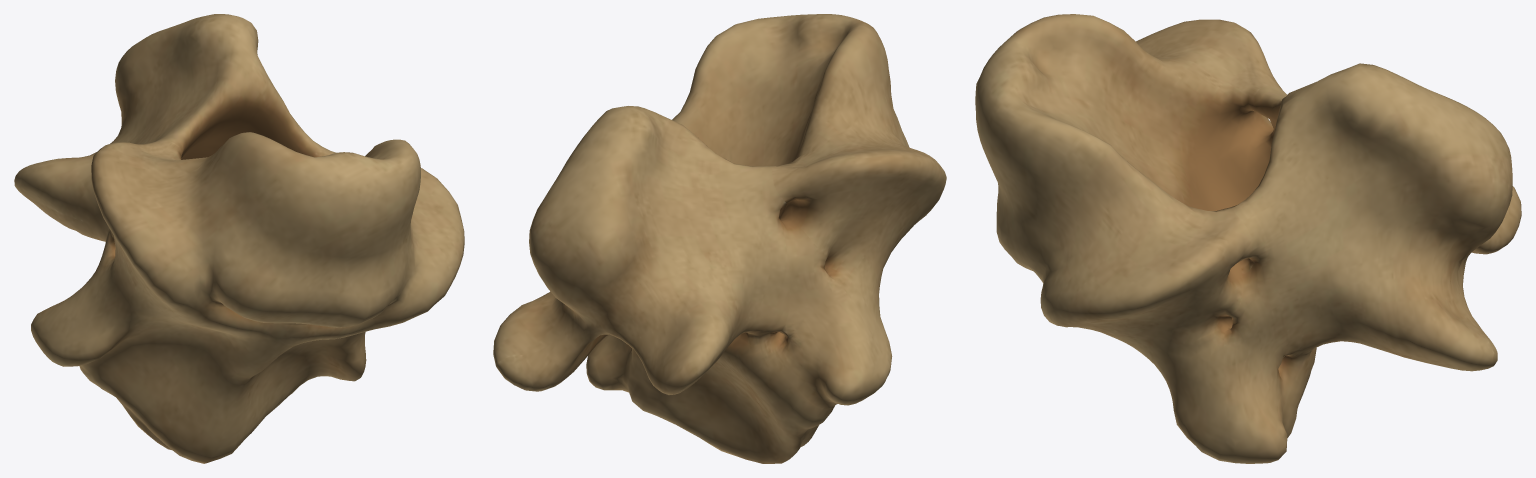
The picture shows the model from 3 angles, left to right: view 1: azimuth 30°, elevation 25°; view 2: azimuth 150°, elevation 25°; view 3: azimuth 270°, elevation 25°; orthographic projection. The views are drawn at different scales.
Visible parts, largest first — view 1: Group56931; view 2: Group56931; view 3: Group56931.
Part boxes in pixels (x1=…): Group56931: x1=14, y1=14, x2=464, y2=463; Group56931: x1=493, y1=14, x2=946, y2=463; Group56931: x1=975, y1=14, x2=1521, y2=463.
Size of the model in its own units: 63.74 by 65.85 by 79.27.
1 material, 1 textured.
